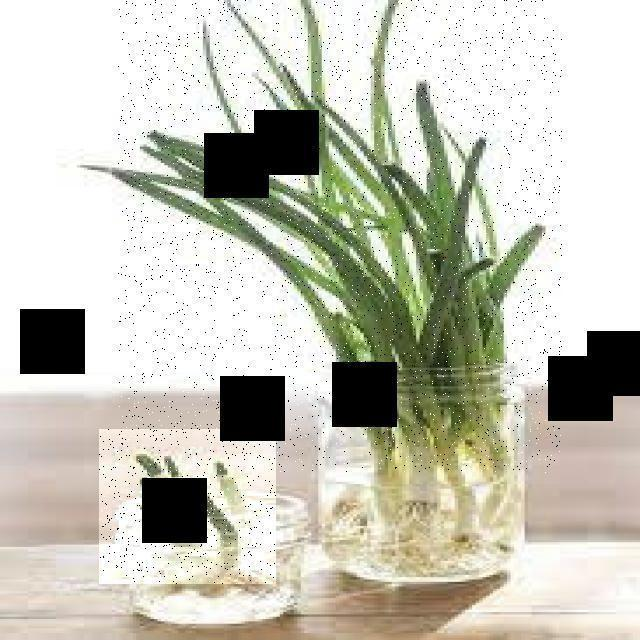green_onion: (94, 0, 534, 575)
